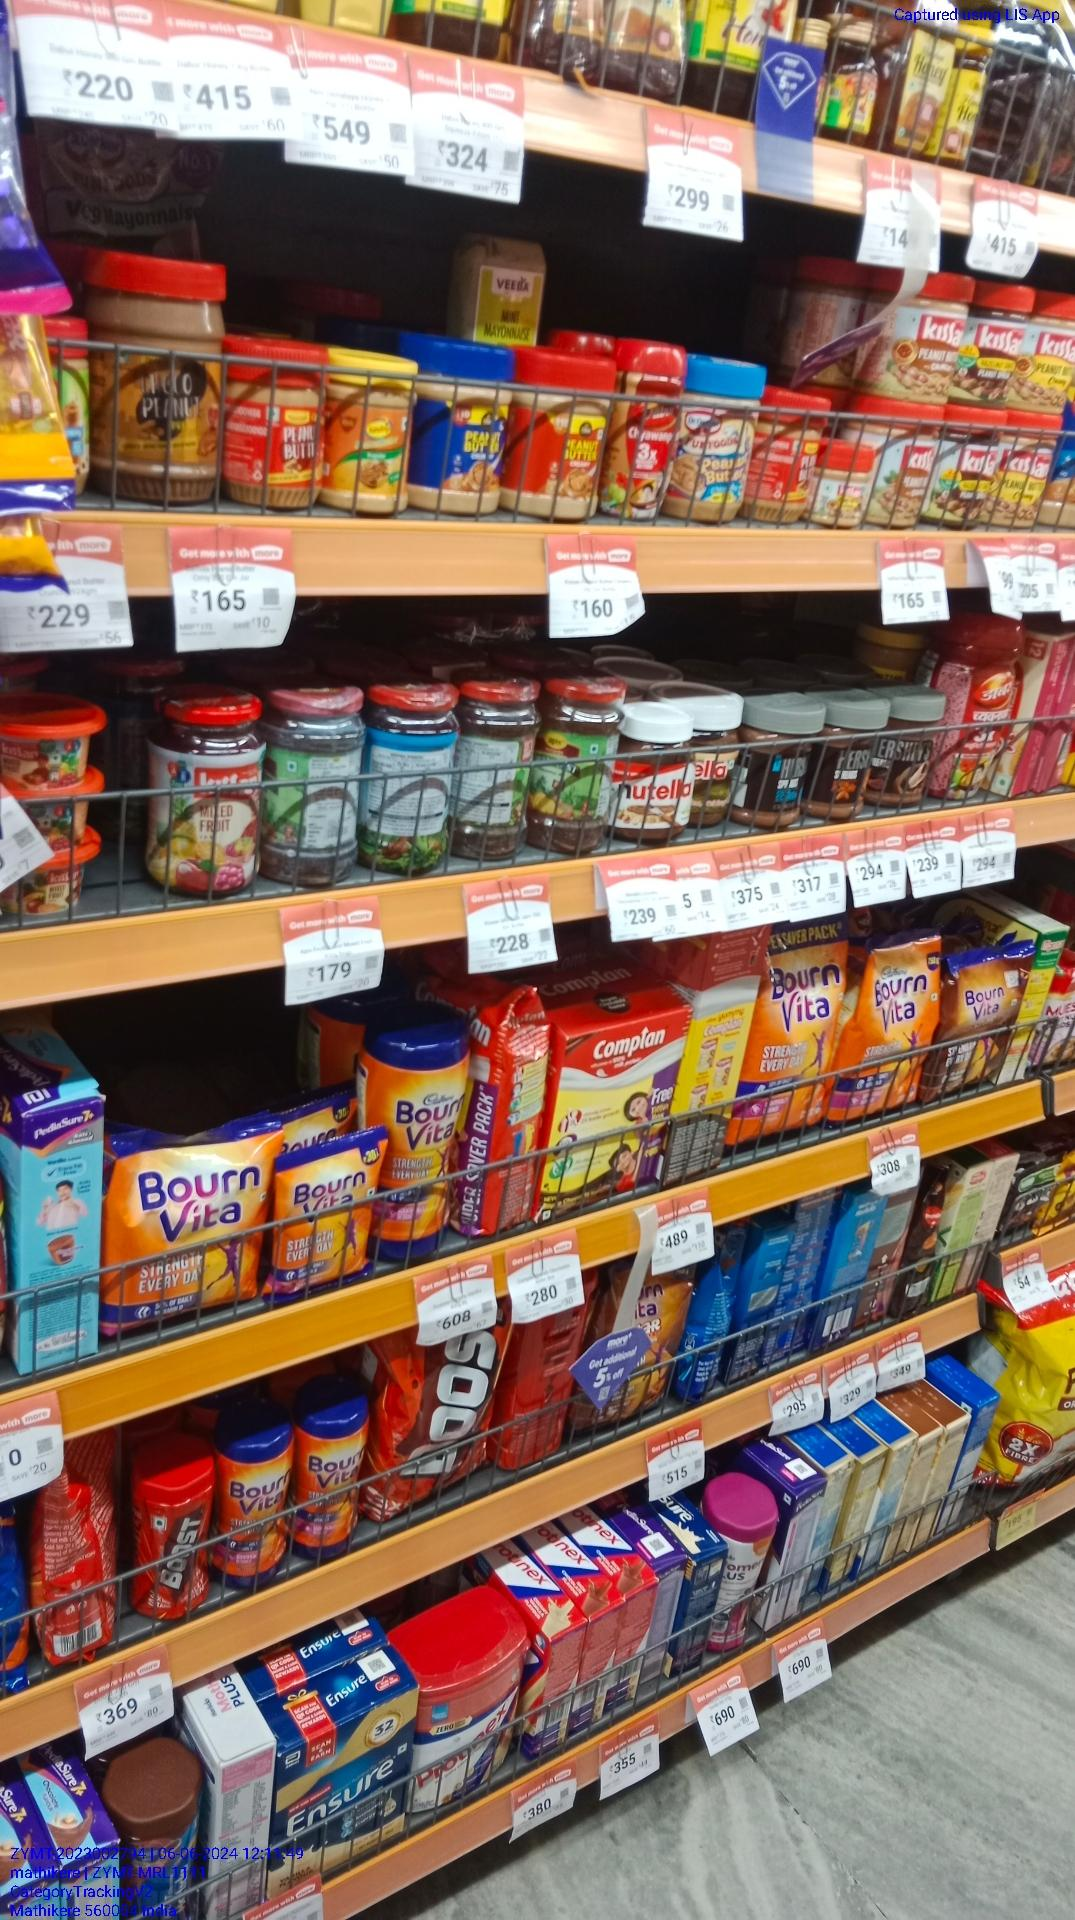BOURN_VITA_200_G_JAR: (299, 1407, 373, 1564), (220, 1431, 290, 1590)
BOURN_VITA_75_G_POUCH: (280, 1147, 386, 1300)
COMPLAN_CHOCOLATE_200_GMS_PACK: (554, 1027, 681, 1211)
ENSURE_VANILLA_400_G_PACK: (280, 1725, 413, 1898)
PROTINEX_VANILLA_400_G_JAR: (418, 1662, 533, 1830)
